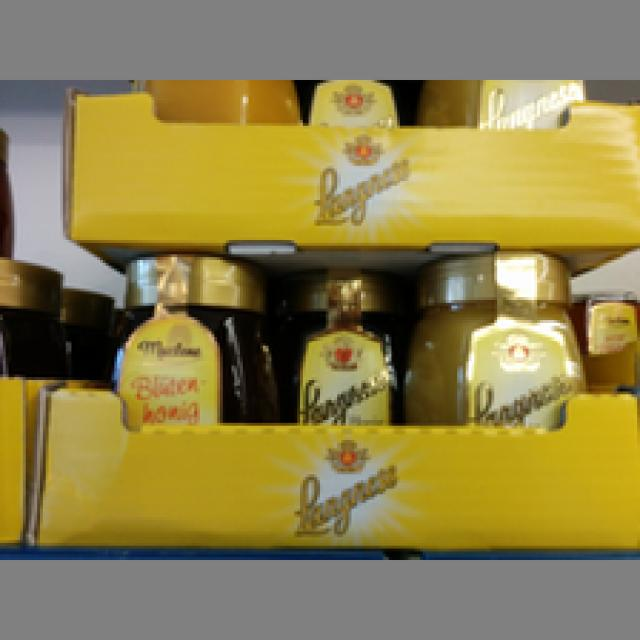groceries: (411, 248, 586, 428), (112, 251, 277, 423), (286, 271, 403, 423)
